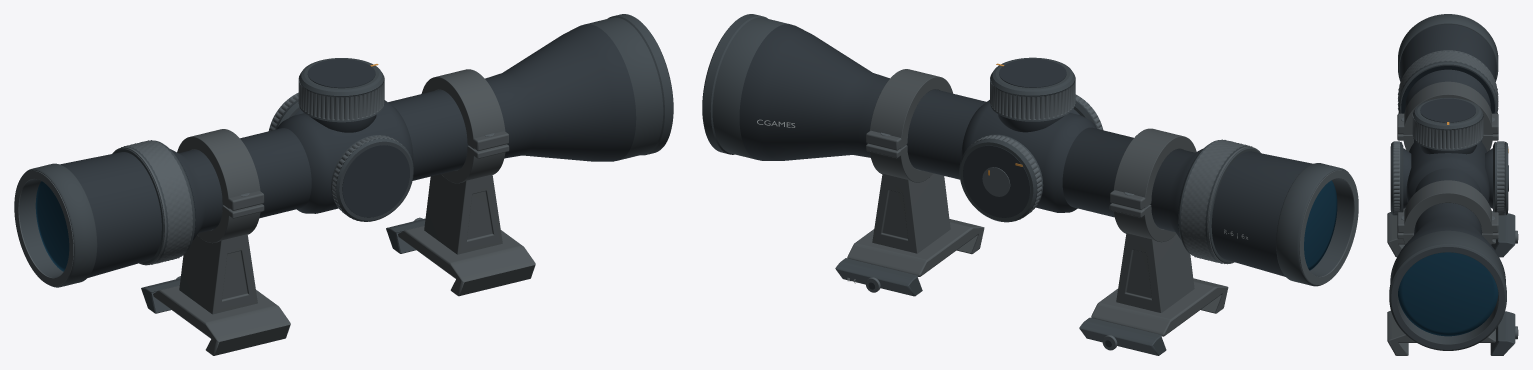
File: R6_6x_Scope_X50_Rail.glb
3 renders of one model, left to right at view 1: azimuth 30°, elevation 25°; view 2: azimuth 150°, elevation 25°; view 3: azimuth 270°, elevation 25°, orthographic. The views are drawn at different scales.
Parts seen in each view (by area): view 1: 01 MAIN SHELL, 02 FRONT COLLAR, 07 SUPPORT 1, 07 SUPPORT 2, 02d REAR COLLAR, 03 CENTRE BODY, 08.1 LOCAL BASE FIXED EDGE, 08.2 LOCAL BASE FIXED EDGE, 05 LEFT FACE, 13 FOCUS DIAMOND DEPRESSIONS, 06 RING 1 UPPER, 06 RING 2 UPPER (+14 smaller); view 2: 01 MAIN SHELL, 02 FRONT COLLAR, 07 SUPPORT 1, 07 SUPPORT 2, 02d REAR COLLAR, 03 CENTRE BODY, 08.2 LOCAL BASE FIXED EDGE, 08.1 LOCAL BASE FIXED EDGE, 05 RIGHT FACE, 13 FOCUS DIAMOND DEPRESSIONS, 06 RING 2 UPPER, 06 RING 1 UPPER (+16 smaller); view 3: 11 FRONT VISUAL PANE, 01 MAIN SHELL, 02 FRONT COLLAR, 06 RING 1 UPPER, 03 CENTRE BODY, 06 RING 2 UPPER, 04c TOP GRIP VALLEYS, 02d REAR COLLAR, 13 FOCUS DIAMOND DEPRESSIONS, 04d TOP FACE, 04b TOP CAP, 09.1 LOCAL SIDE STRIP (+19 smaller).
Boxes of the visible parts, x1,y1,x2,y2 form: 01 MAIN SHELL: (60,24,636,277); 02 FRONT COLLAR: (584,14,673,160); 07 SUPPORT 1: (424,174,502,254); 07 SUPPORT 2: (179,234,257,314); 02d REAR COLLAR: (19,163,97,287); 03 CENTRE BODY: (277,100,413,213); 08.1 LOCAL BASE FIXED EDGE: (398,225,535,296); 08.2 LOCAL BASE FIXED EDGE: (153,285,290,355); 05 LEFT FACE: (342,145,409,217); 13 FOCUS DIAMOND DEPRESSIONS: (121,140,192,264); 06 RING 1 UPPER: (421,69,505,149); 06 RING 2 UPPER: (177,129,260,208); 01 MAIN SHELL: (739,24,1313,276); 02 FRONT COLLAR: (702,14,789,159); 07 SUPPORT 1: (872,173,950,253); 07 SUPPORT 2: (1116,233,1194,312); 02d REAR COLLAR: (1276,163,1353,286); 03 CENTRE BODY: (961,100,1096,212); 08.2 LOCAL BASE FIXED EDGE: (1091,278,1228,336); 08.1 LOCAL BASE FIXED EDGE: (847,219,984,276); 05 RIGHT FACE: (963,145,1030,217); 13 FOCUS DIAMOND DEPRESSIONS: (1181,139,1252,263); 06 RING 2 UPPER: (1113,128,1196,208); 06 RING 1 UPPER: (869,69,952,148); 11 FRONT VISUAL PANE: (1398,252,1498,336); 01 MAIN SHELL: (1390,24,1504,275); 02 FRONT COLLAR: (1389,230,1506,350); 06 RING 1 UPPER: (1403,180,1492,233); 03 CENTRE BODY: (1406,141,1489,202); 06 RING 2 UPPER: (1403,81,1492,134); 04c TOP GRIP VALLEYS: (1412,114,1483,149); 02d REAR COLLAR: (1398,14,1498,81); 13 FOCUS DIAMOND DEPRESSIONS: (1397,51,1498,113); 04d TOP FACE: (1420,98,1475,122); 04b TOP CAP: (1413,97,1483,150); 09.1 LOCAL SIDE STRIP: (1490,311,1515,355).
Bounding box in the file's own units: 0.303 × 0.1075 × 0.0703.
